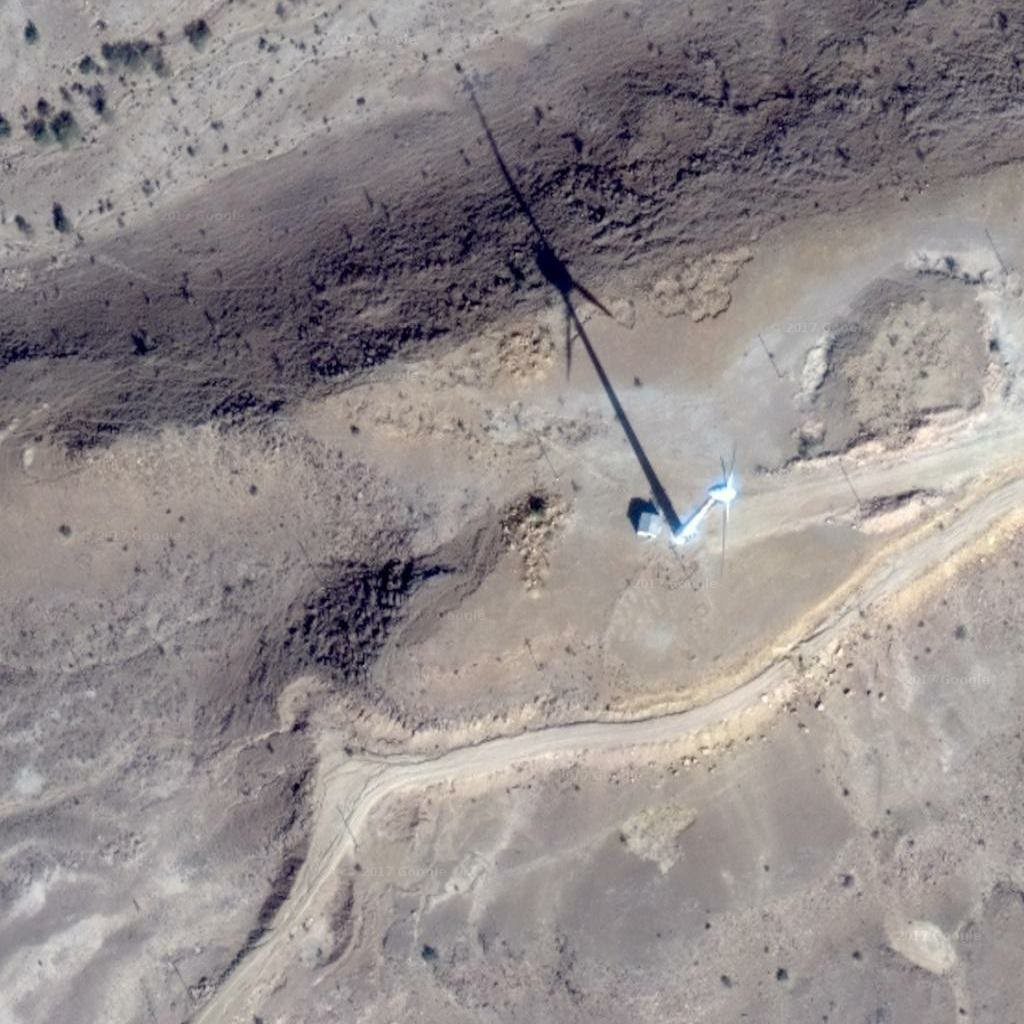Windmill: (455, 85, 701, 517)
